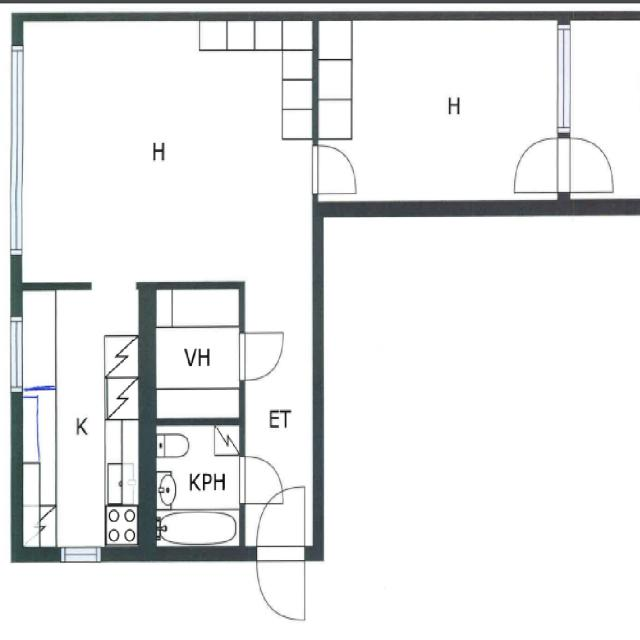door: (256, 488, 304, 562), (256, 546, 304, 620), (557, 138, 614, 192), (514, 138, 570, 192), (312, 146, 357, 193), (238, 457, 282, 504), (238, 334, 282, 379)
